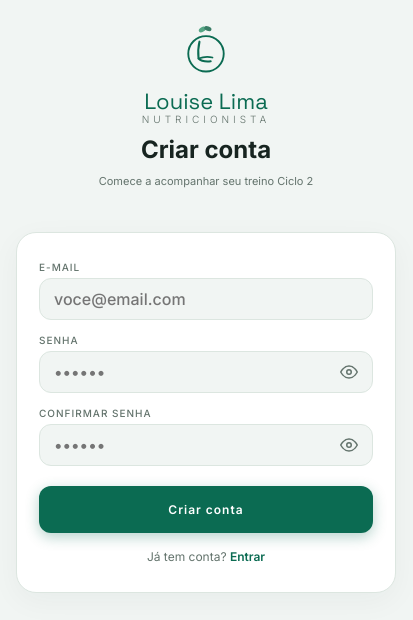
Test: CadastroPage — criar conta com confirmação de senha › bloqueia o cadastro quando as senhas são diferentes e mostra erro acessível
Type "nova@email.com" into the field labelled "E-mail" at (206, 299), box left=39, top=278, right=373, bottom=320
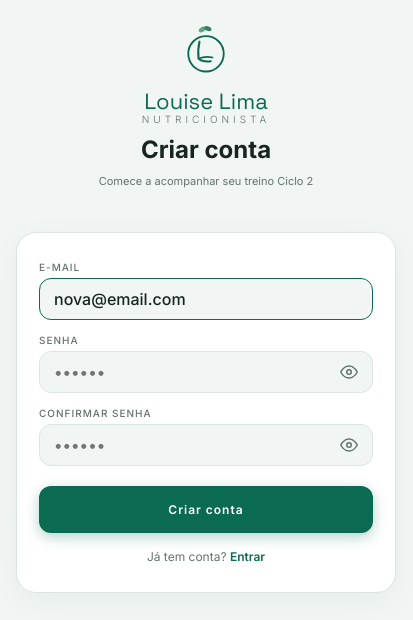
Type "123456" into the password field labelled "Senha" at (206, 372), box left=39, top=351, right=373, bottom=393
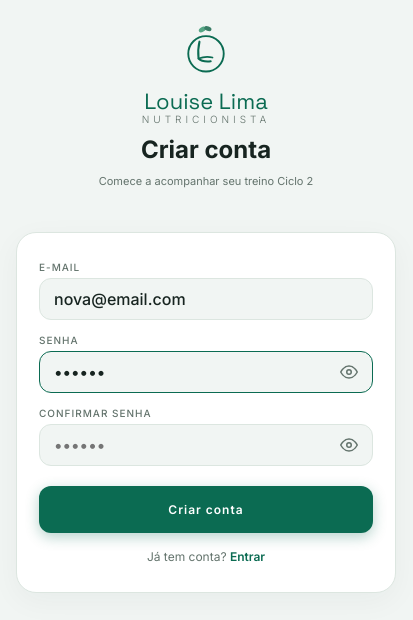
Type "654321" into the password field labelled "Confirmar senha" at (206, 445), box left=39, top=424, right=373, bottom=466
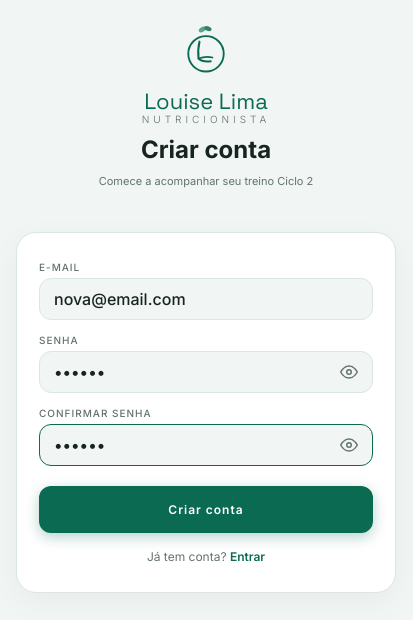
Click the button "Criar conta" at (206, 509), box left=39, top=486, right=373, bottom=533
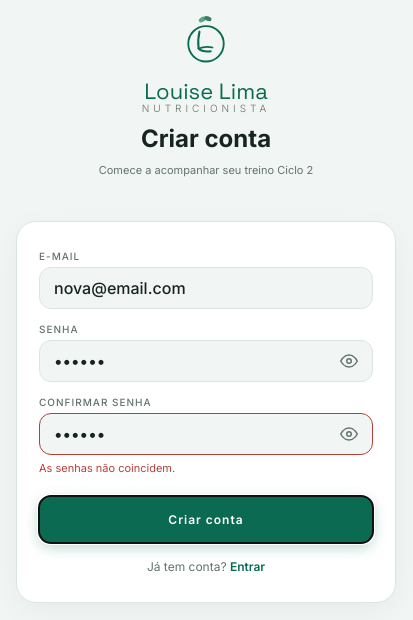
Expected: the heading "Criar conta" is shown, left=141, top=124, right=271, bottom=153
Expected: the message reads "As senhas não coincidem.", left=39, top=461, right=175, bottom=475
